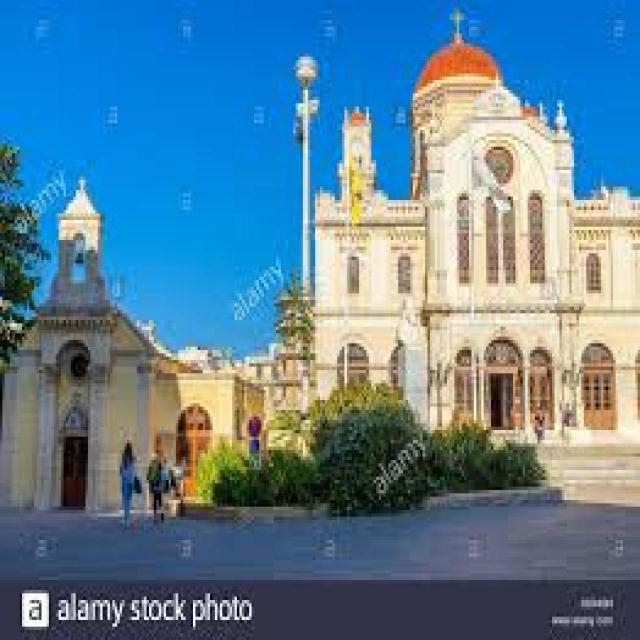Agios Minas: (3, 10, 640, 503)
